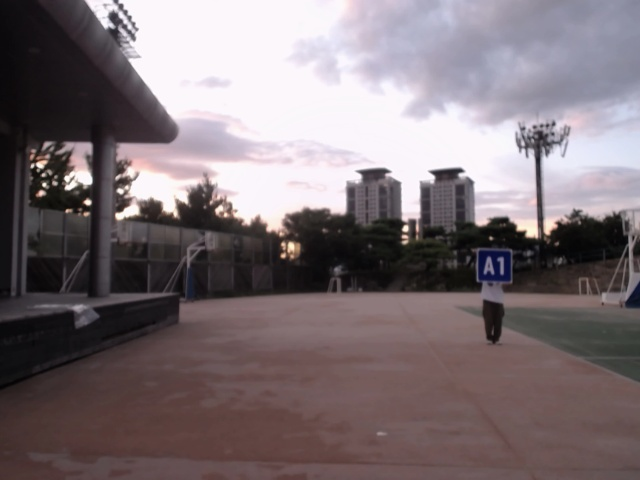delivery_a1: (477, 249, 513, 284)
